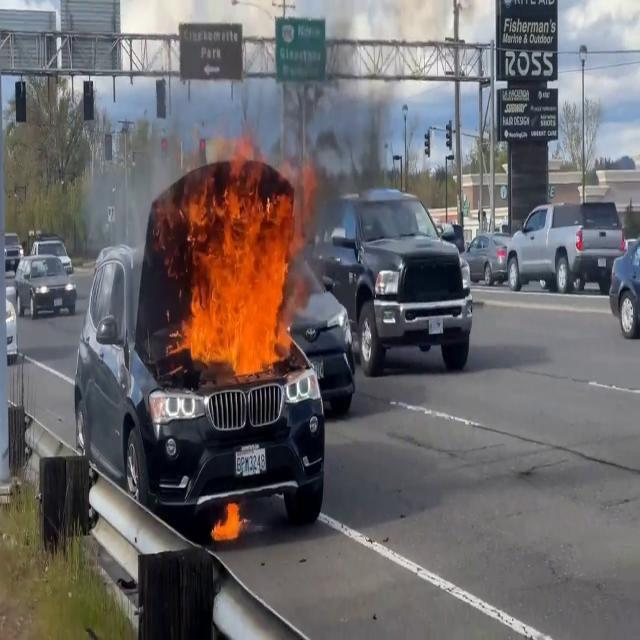Fire: (172, 132, 306, 378), (212, 497, 245, 547)
Smoke: (272, 26, 390, 257), (74, 129, 172, 342)
